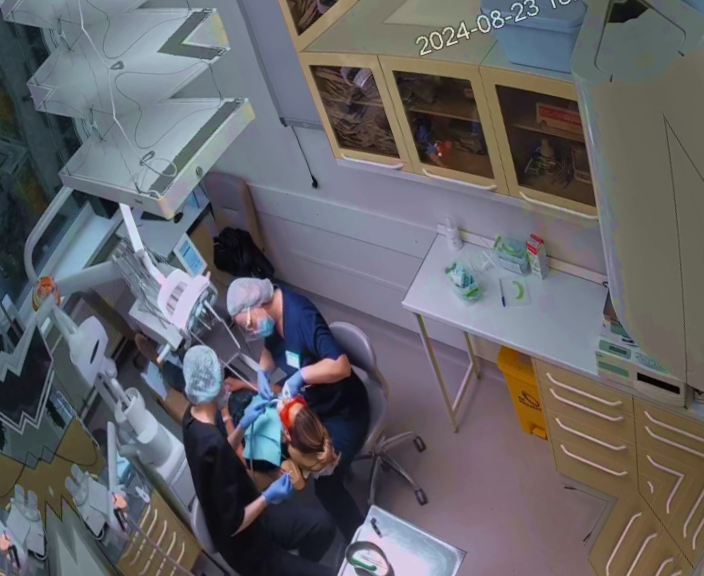Patient: (121, 293, 349, 531)
